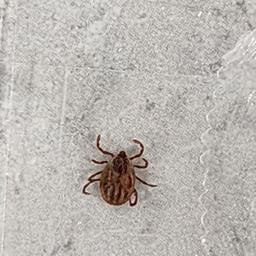Rhipicephalus sanguineus: (82, 134, 157, 207)
